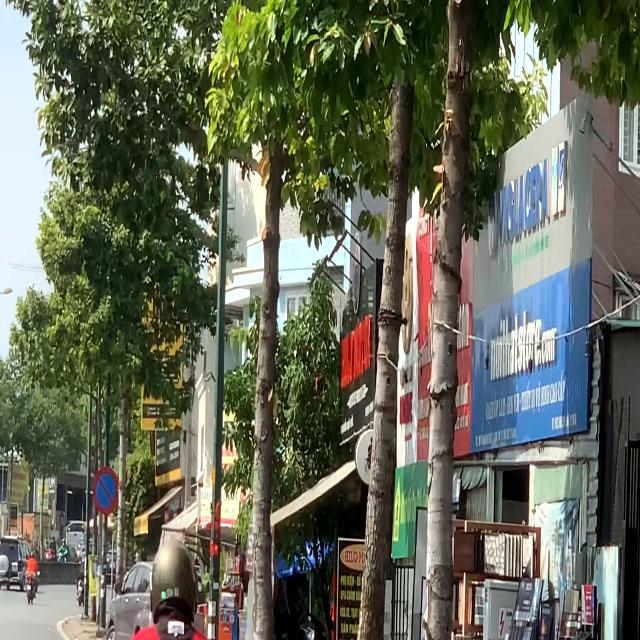Cam do xe: (91, 466, 119, 514)
